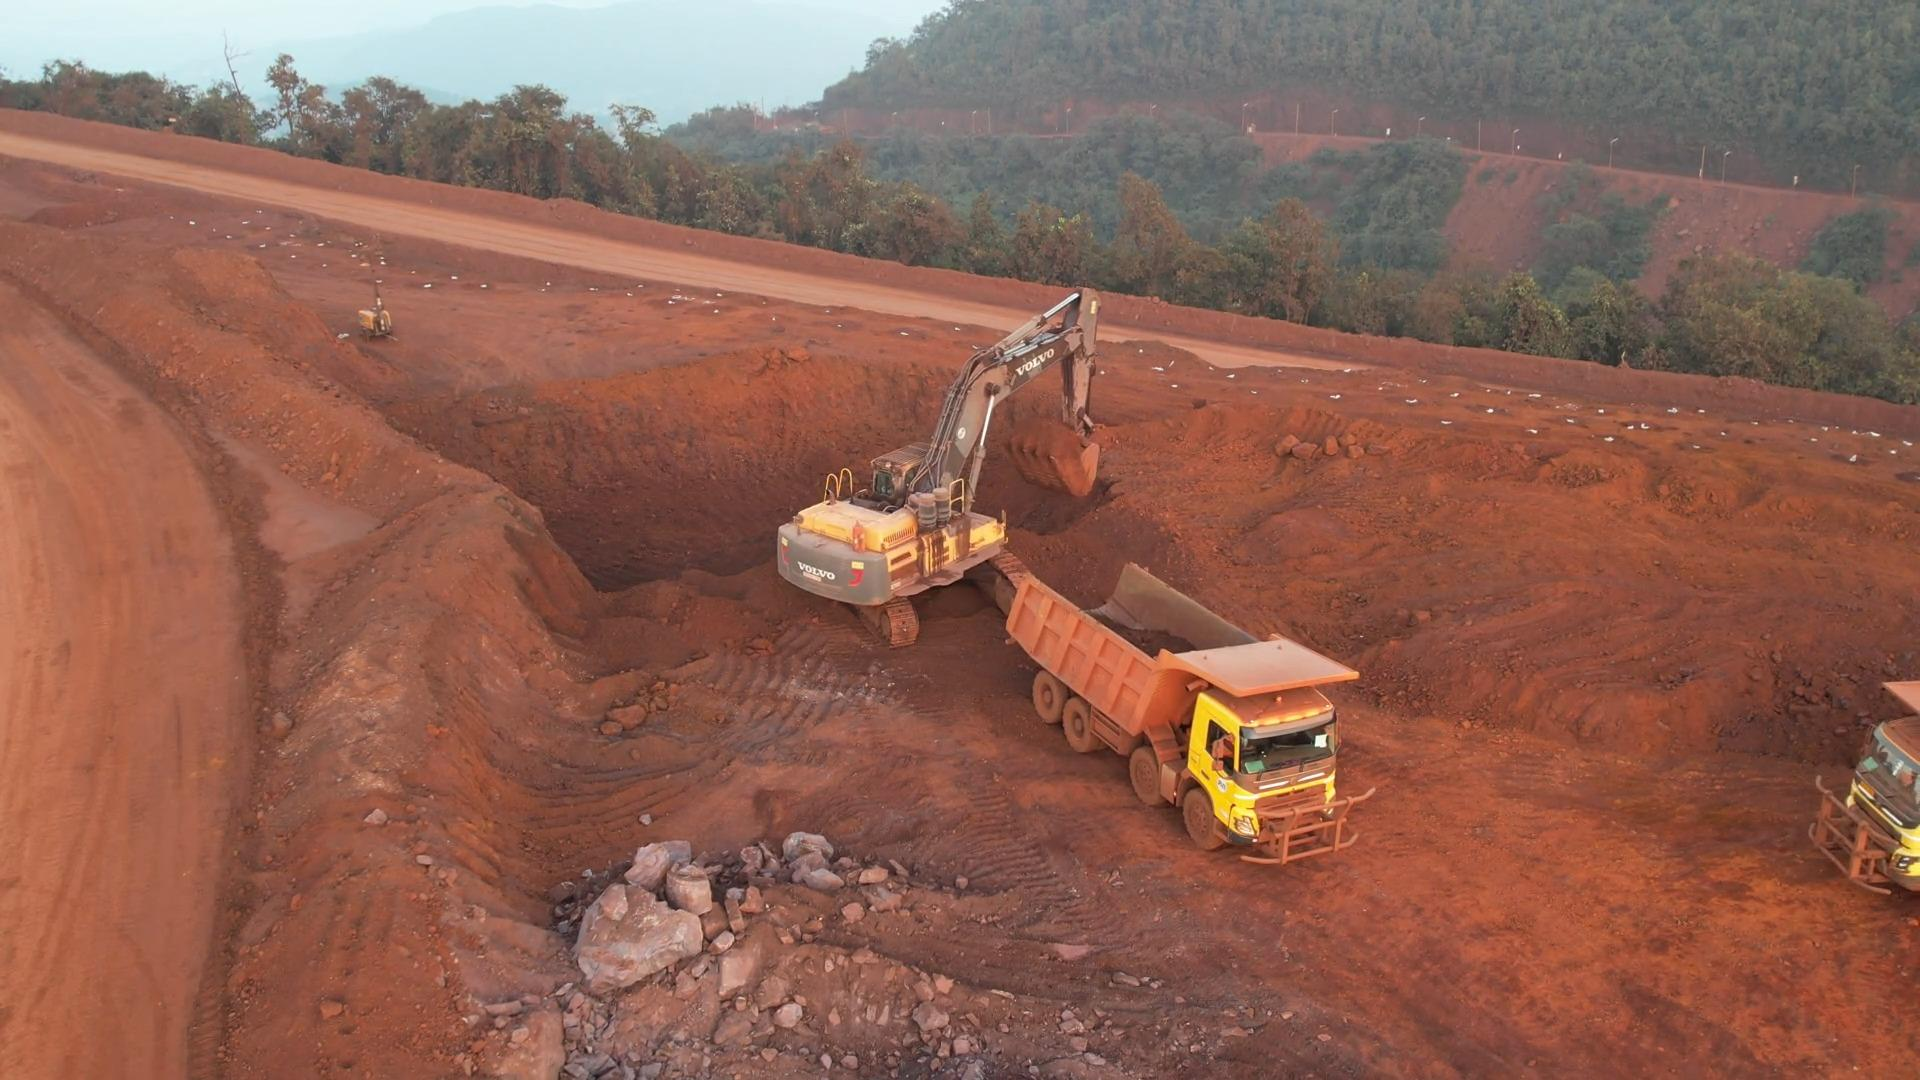excavator: (807, 289, 1100, 567)
